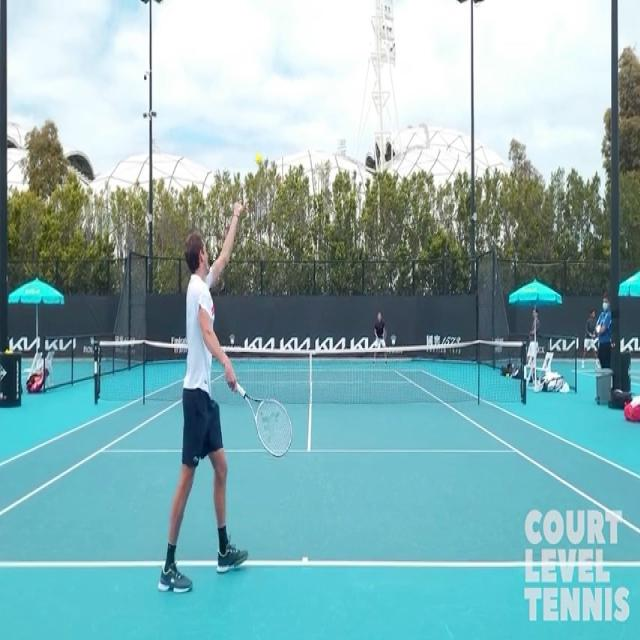serve_toss: (162, 199, 294, 588)
